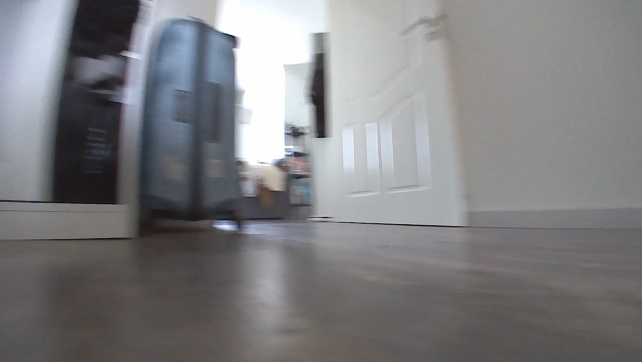door_anno: (317, 0, 472, 230)
